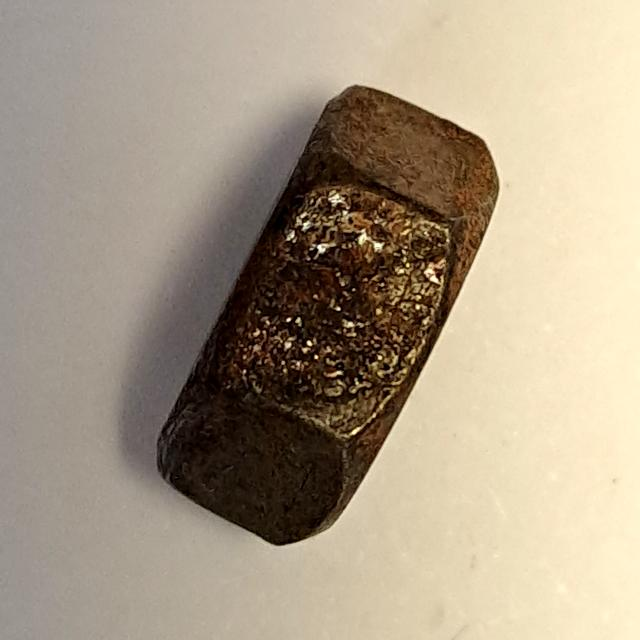Side_Rust: (139, 68, 513, 562)
